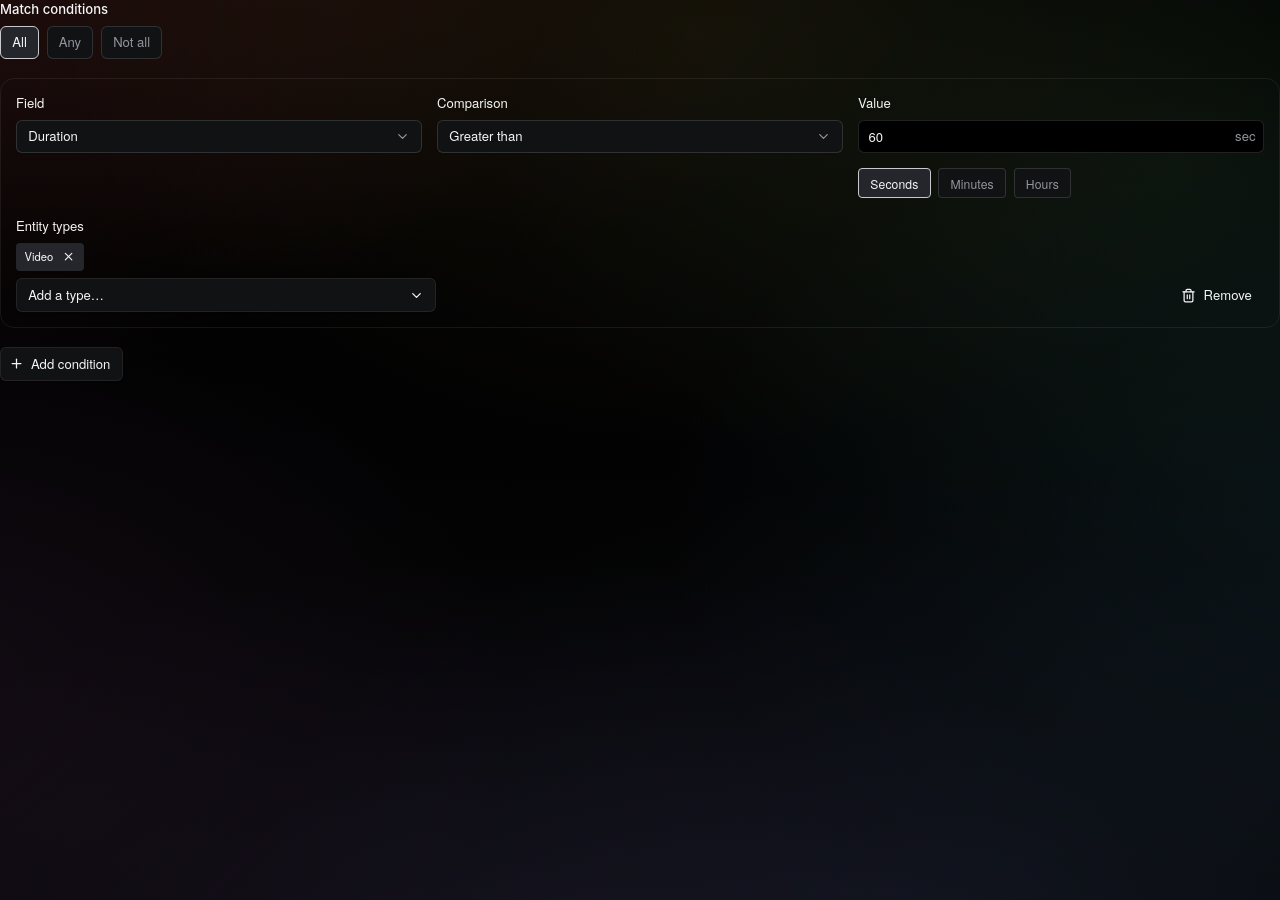
Test: ConditionBuilder › shows only supported, unselected types in the picker
The width and height of the screenshot is (1280, 900).
What coordinates should you click on to do the following:
click the button with aria-label "Add entity types"
I would click on:
 (66, 295)
Its box is top-left (16, 278), bottom-right (436, 312).
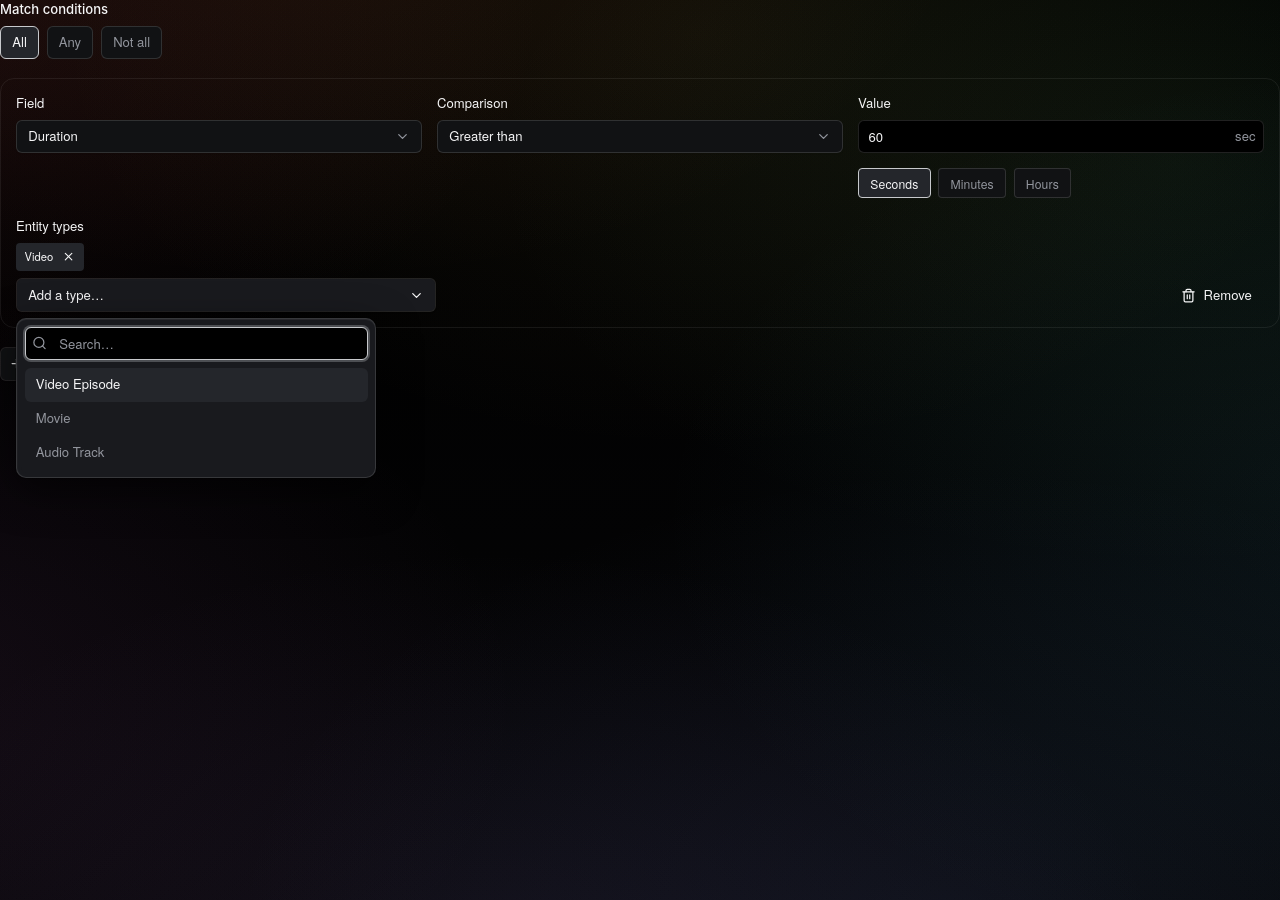
Expected: the option "Audio Track" is shown, top-left (36, 442), bottom-right (104, 461)
